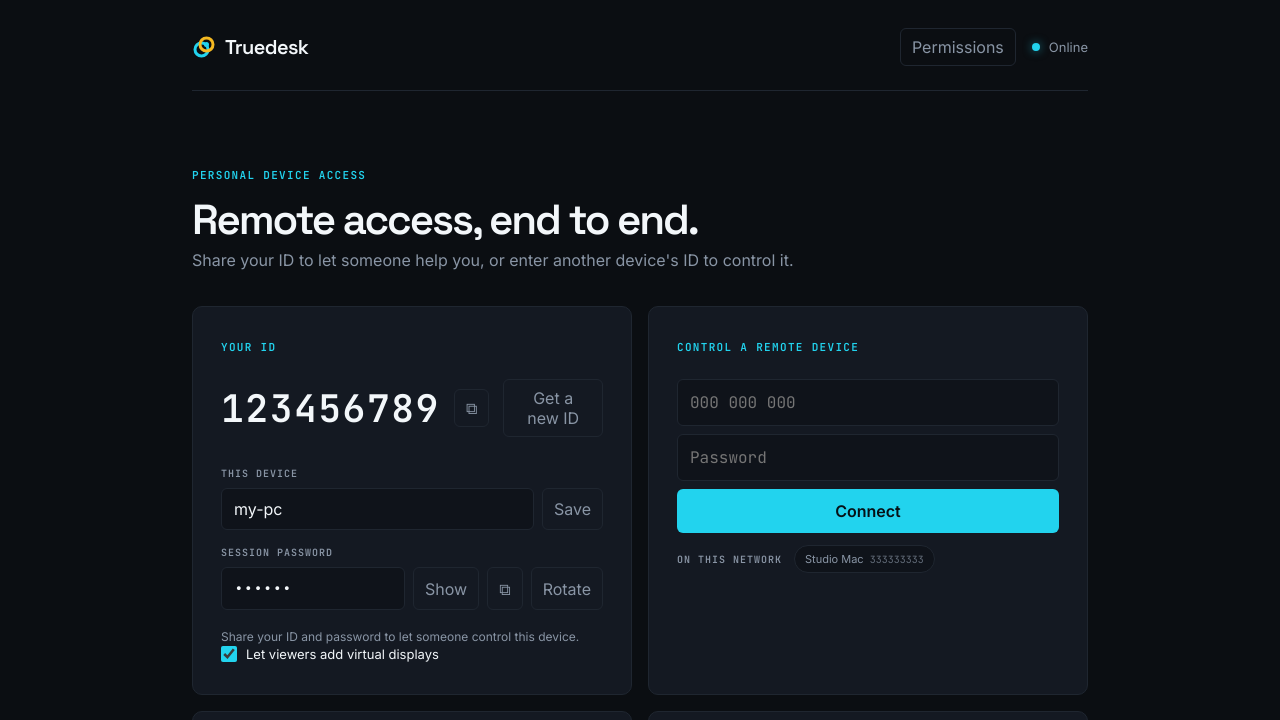
Test: Home › lists nearby devices and fills the form when one is picked
Click the button "Studio Mac 333333333": (864, 559) [794,545,935,573]
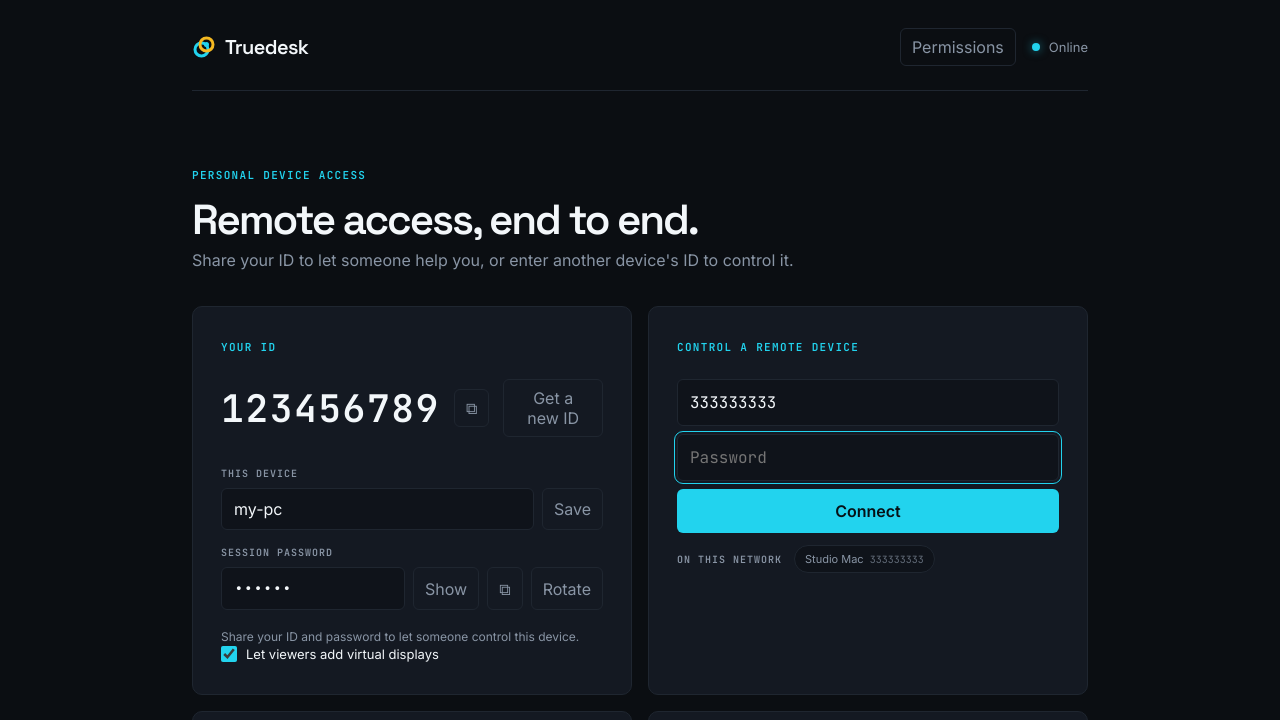
Expected: the field named "Remote device ID" holds "333333333", [677,379,1059,426]
